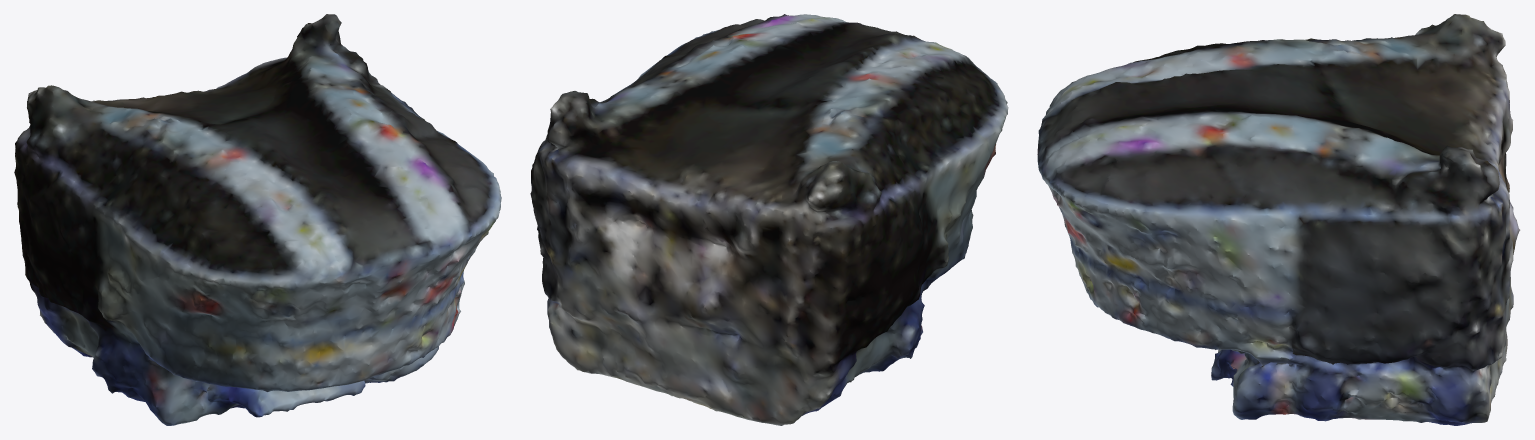
The model's file is backpack.glb.
3 views of the same model, side by side, from view 1: azimuth 30°, elevation 25°; view 2: azimuth 150°, elevation 25°; view 3: azimuth 270°, elevation 25° (orthographic). The views are drawn at different scales.
Size of the model in its own units: 0.882 by 0.6663 by 0.997.
